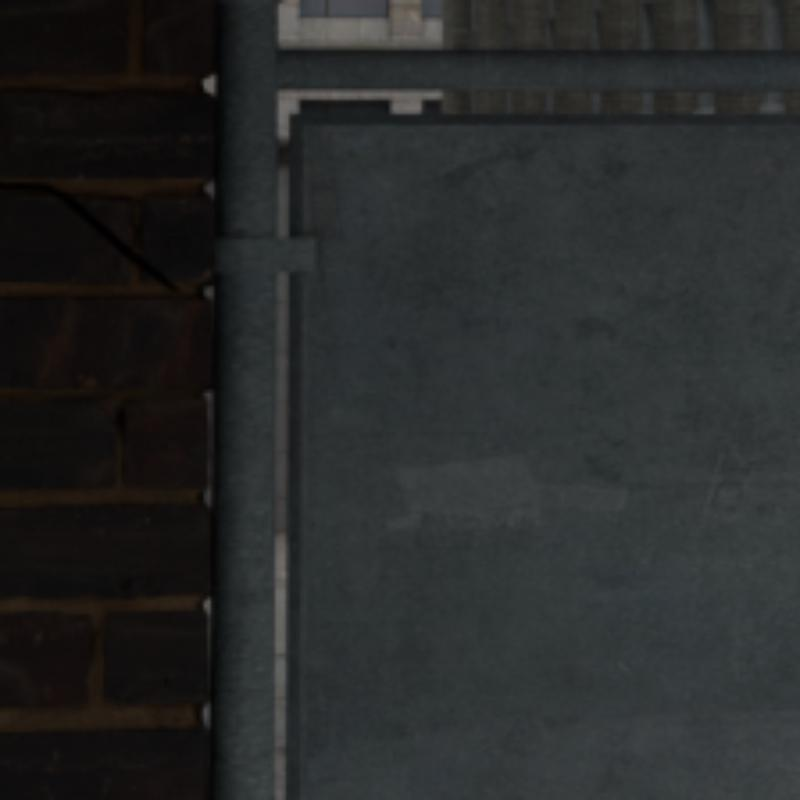pothole: (0, 182, 179, 293)
